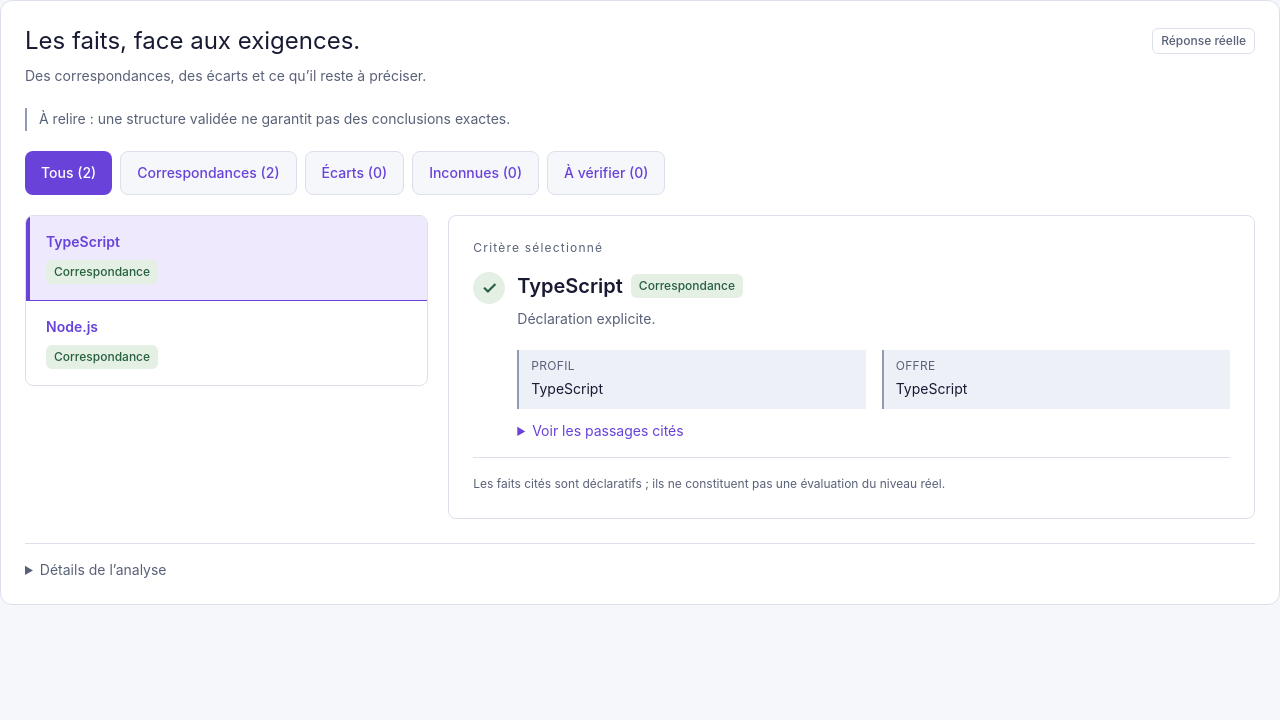
Test case: criterion selection displays its own source quotations
This screenshot has width=1280, height=720.
Click the button with aria-label "Node.js · Correspondance" at point(72, 326), box [26,300,427,384]
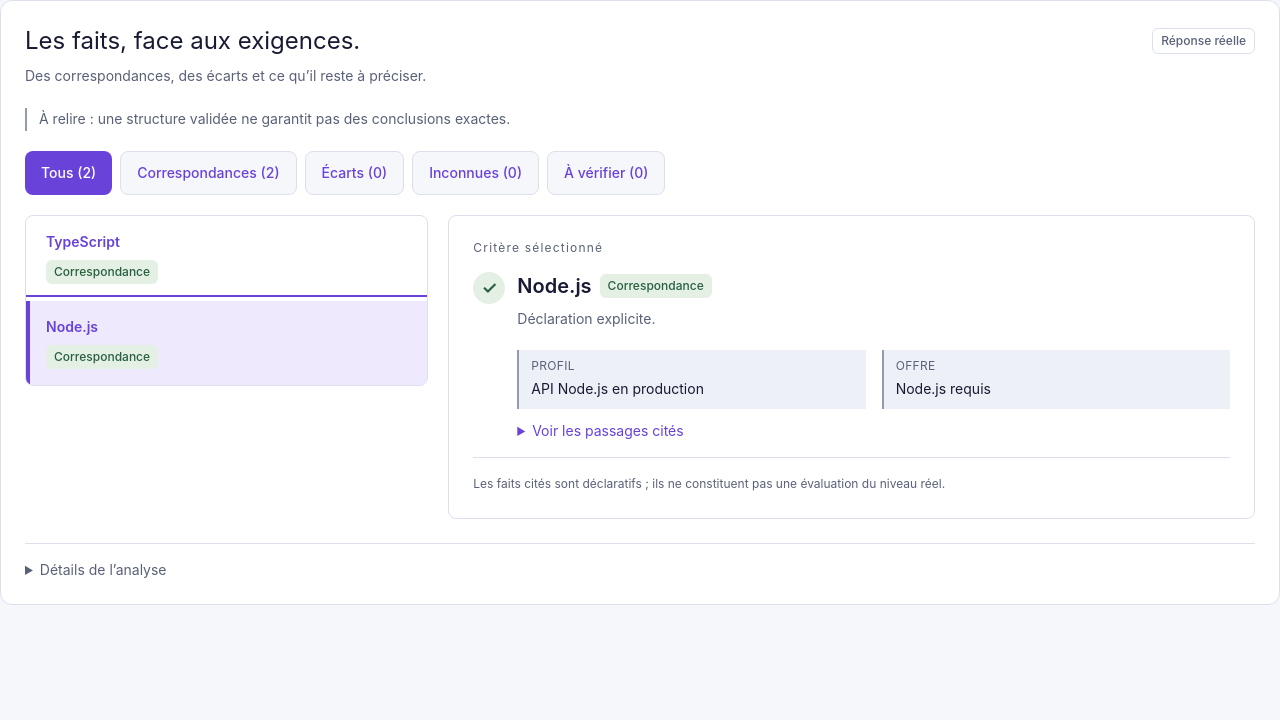
Check: the heading "Node.js" is shown, box [517,272,592,300]
Check: the text "API Node.js en production" is shown, box [531,380,704,397]
Check: the text "Node.js requis" is shown, box [896,380,991,397]
